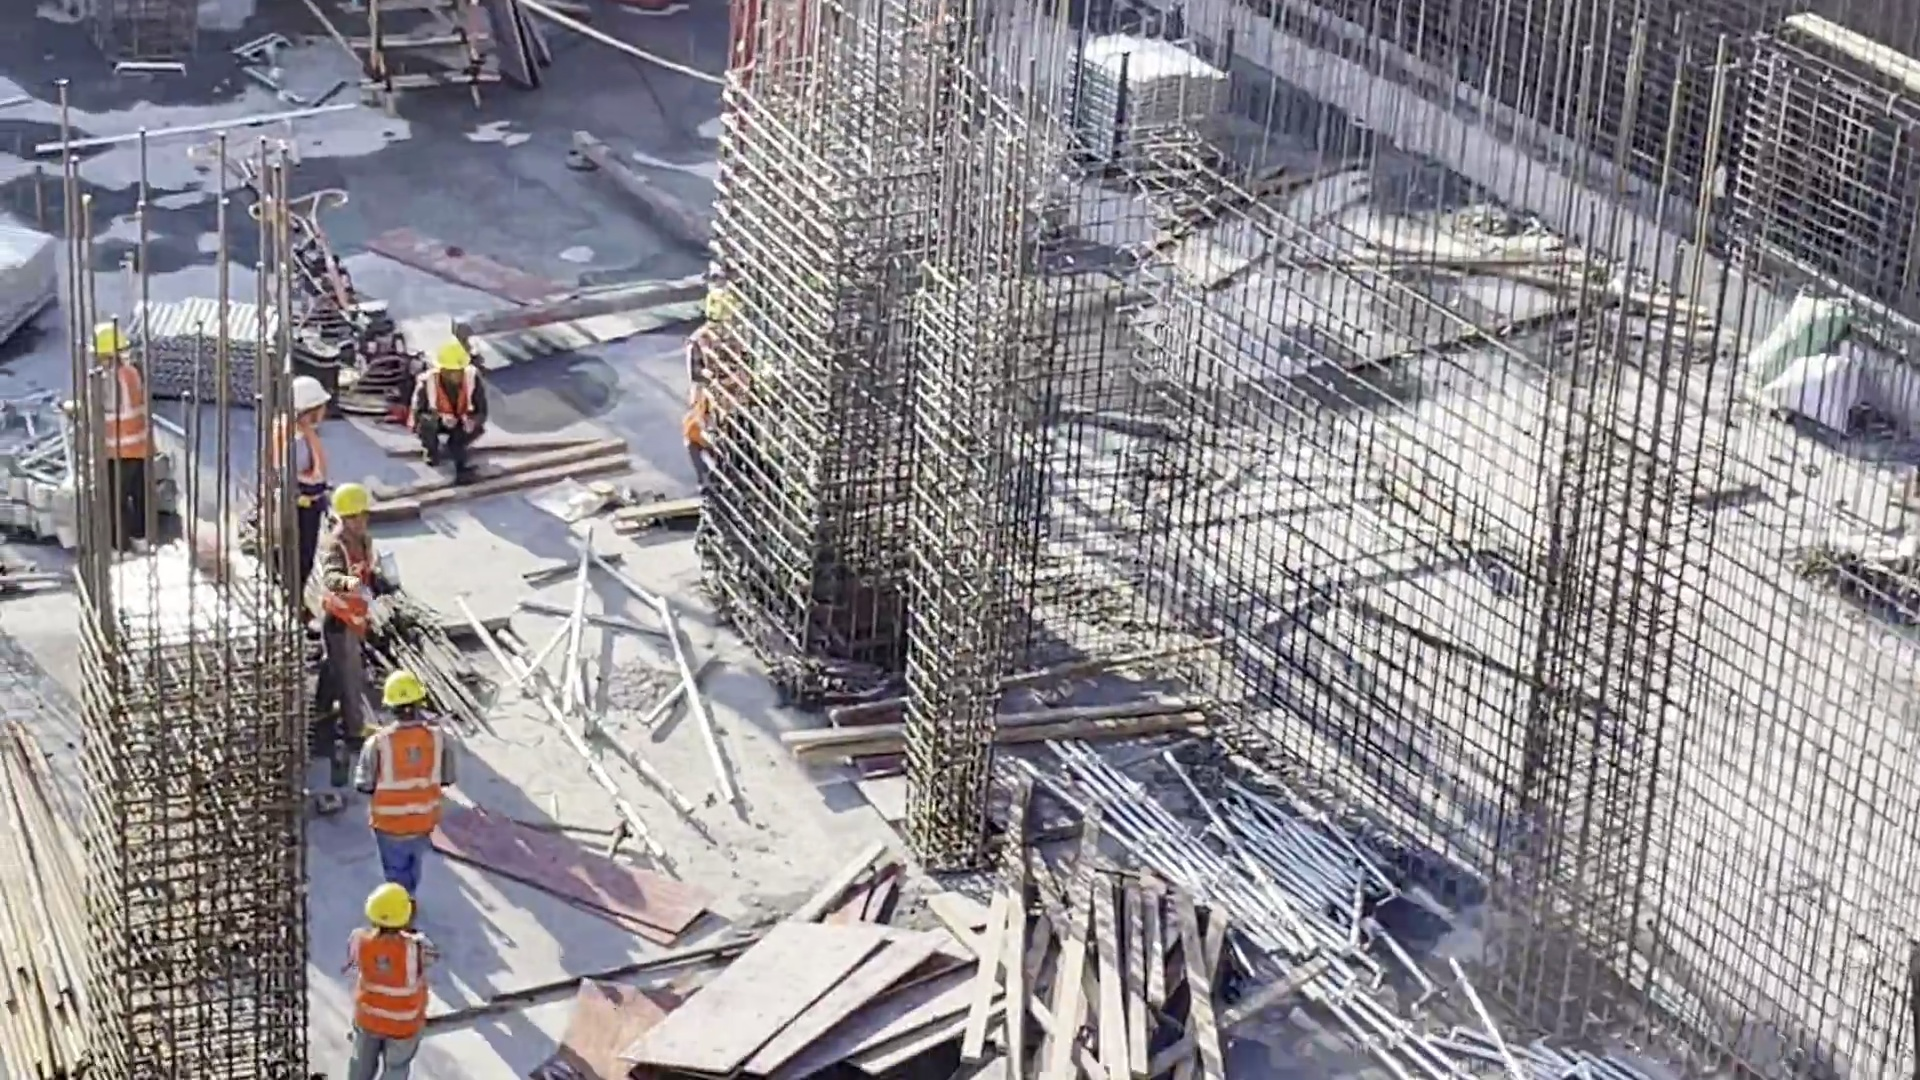helmet: (355, 883, 426, 927), (82, 319, 145, 348), (381, 667, 428, 706), (707, 285, 751, 324), (430, 338, 482, 371), (291, 375, 341, 408), (332, 480, 380, 511)
person: (348, 661, 460, 926), (80, 322, 193, 556), (314, 480, 397, 782), (674, 304, 771, 532), (355, 860, 432, 1080), (274, 372, 340, 600), (412, 331, 485, 478)
vest: (356, 722, 454, 830), (685, 331, 756, 442), (348, 931, 423, 1034), (84, 376, 166, 464), (323, 524, 380, 635), (421, 375, 484, 427), (284, 422, 321, 512)
